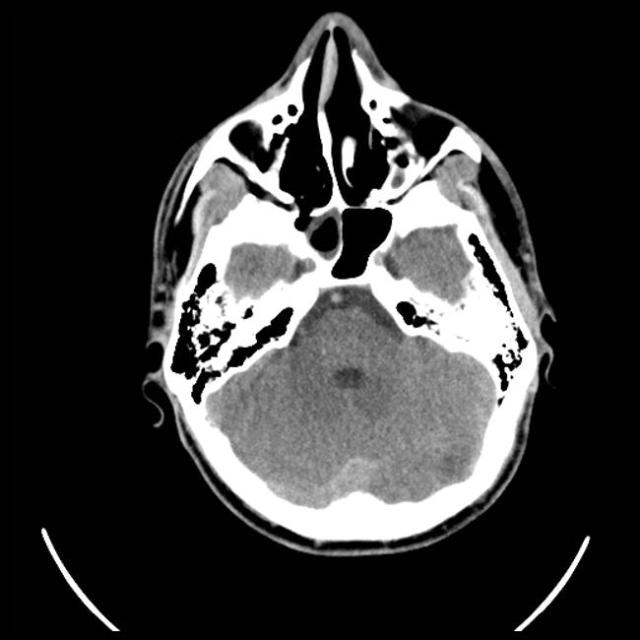lesion: (139, 12, 560, 556)
